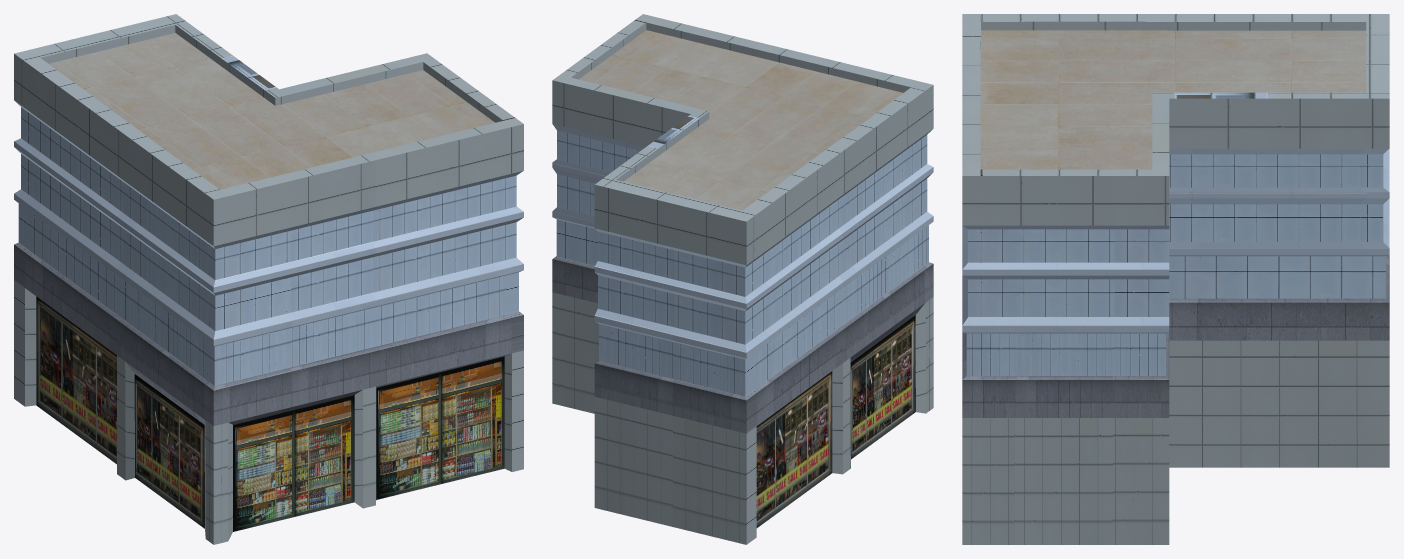
The model's file is house16.FBX.
The picture shows the model from 3 angles, left to right: view 1: azimuth 30°, elevation 25°; view 2: azimuth 150°, elevation 25°; view 3: azimuth 270°, elevation 25°; orthographic projection. The views are drawn at different scales.
Parts seen in each view (by area): view 1: Box001; view 2: Box001; view 3: Box001.
Boxes of the visible parts, <box> form: Box001: <box>14,14,523,544</box>; Box001: <box>552,14,933,544</box>; Box001: <box>962,14,1389,544</box>.
Size of the model in its own units: 148 by 157 by 165.
